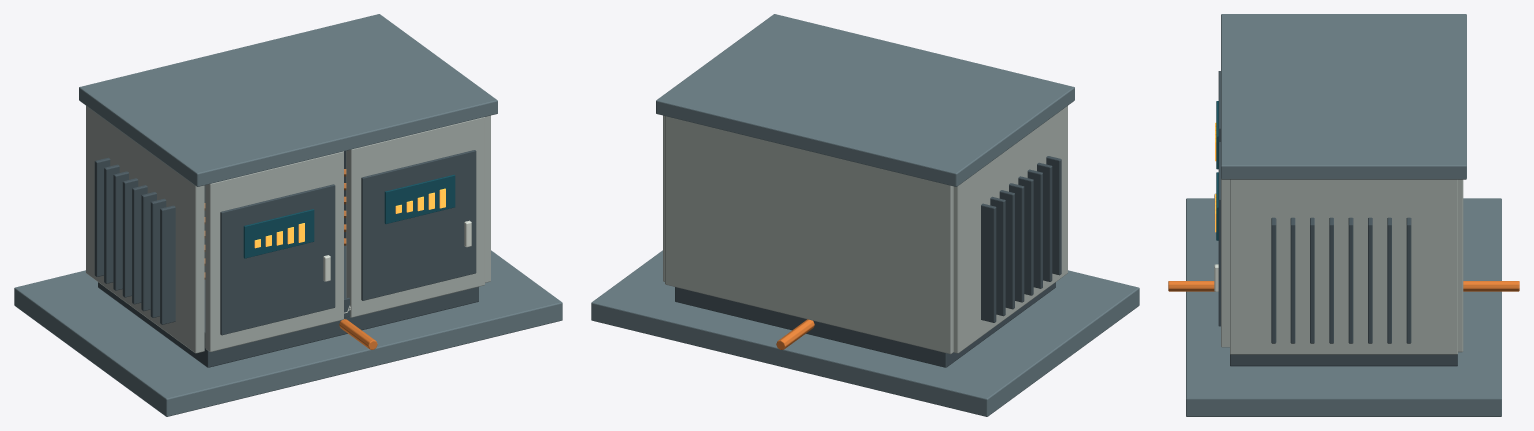
File: solar_power_station_d1.glb
3 renders of one model, left to right at view 1: azimuth 30°, elevation 25°; view 2: azimuth 150°, elevation 25°; view 3: azimuth 270°, elevation 25°, orthographic. The views are drawn at different scales.
Visible parts, largest first — view 1: INVERTER_ROOF, POWER_STATION_FOUNDATION, DOOR_INSET_001, DOOR_INSET, INVERTER_ARMORED_SIDE, INVERTER_ACCESS_DOOR, INVERTER_ACCESS_DOOR_001, INVERTER_CHASSIS, TELEMETRY_SCREEN, TELEMETRY_SCREEN_001, COOLING_FIN, COOLING_FIN_001 (+7 smaller); view 2: INVERTER_REAR_ARMOR, INVERTER_ROOF, POWER_STATION_FOUNDATION, INVERTER_ARMORED_SIDE, INVERTER_CHASSIS, COOLING_FIN_007, COOLING_FIN_003, COOLING_FIN_001, COOLING_FIN_006, COOLING_FIN, COOLING_FIN_004, COOLING_FIN_005 (+1 smaller); view 3: INVERTER_ROOF, INVERTER_ARMORED_SIDE_001, POWER_STATION_FOUNDATION, INVERTER_CHASSIS, INVERTER_ACCESS_DOOR_001, INVERTER_REAR_ARMOR, COOLING_FIN_009, COOLING_FIN_012, COOLING_FIN_015, COOLING_FIN_008, COOLING_FIN_010, COOLING_FIN_013 (+5 smaller).
Boxes of the visible parts, x1,y1,x2,y2 form: INVERTER_ROOF: (79,14,497,186); POWER_STATION_FOUNDATION: (14,250,562,416); DOOR_INSET_001: (361,150,476,300); DOOR_INSET: (220,184,335,335); INVERTER_ARMORED_SIDE: (86,106,204,353); INVERTER_ACCESS_DOOR: (205,151,343,351); INVERTER_ACCESS_DOOR_001: (346,117,484,317); INVERTER_CHASSIS: (98,245,478,367); TELEMETRY_SCREEN: (243,209,314,258); TELEMETRY_SCREEN_001: (384,174,455,223); COOLING_FIN: (160,205,175,324); COOLING_FIN_001: (150,198,166,317); INVERTER_REAR_ARMOR: (665,116,953,353); INVERTER_ROOF: (656,14,1074,186); POWER_STATION_FOUNDATION: (591,250,1139,416); INVERTER_ARMORED_SIDE: (953,106,1067,353); INVERTER_CHASSIS: (675,282,1055,367); COOLING_FIN_007: (981,203,996,322); COOLING_FIN_003: (1018,176,1033,295); COOLING_FIN_001: (1037,162,1052,281); COOLING_FIN_006: (990,196,1005,316); COOLING_FIN: (1046,156,1061,275); COOLING_FIN_004: (1009,183,1024,302); COOLING_FIN_005: (999,190,1014,309); INVERTER_ROOF: (1221,14,1466,179); INVERTER_ARMORED_SIDE_001: (1230,179,1457,354); POWER_STATION_FOUNDATION: (1186,198,1501,416); INVERTER_CHASSIS: (1230,354,1457,366); INVERTER_ACCESS_DOOR_001: (1221,179,1229,347); INVERTER_REAR_ARMOR: (1458,179,1463,352); COOLING_FIN_009: (1290,217,1295,343); COOLING_FIN_012: (1348,217,1353,343); COOLING_FIN_015: (1406,217,1411,343); COOLING_FIN_008: (1271,217,1276,343); COOLING_FIN_010: (1310,217,1314,343); COOLING_FIN_013: (1368,217,1372,343).
Bounding box in the file's own units: 5.4 × 2.86 × 4.
